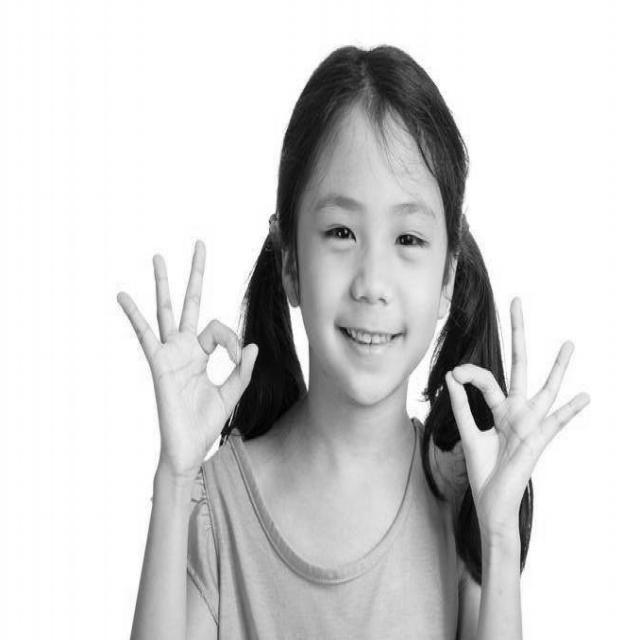perfect: (110, 231, 263, 490), (442, 288, 596, 542)
